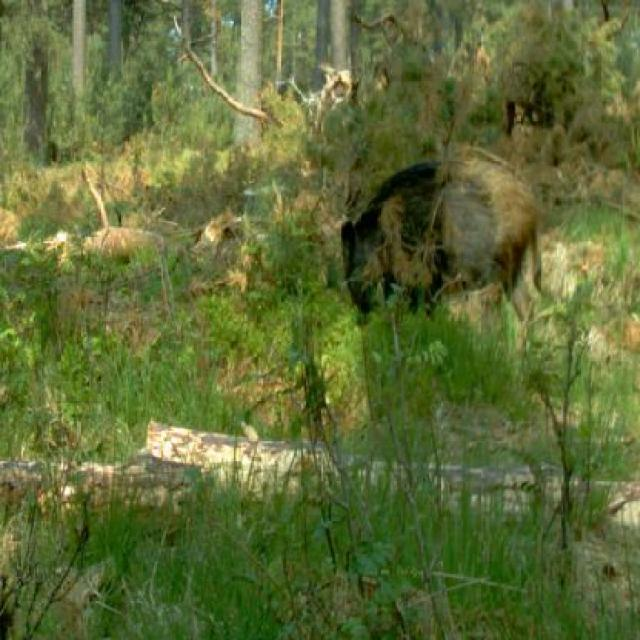pig: (326, 136, 571, 324)
